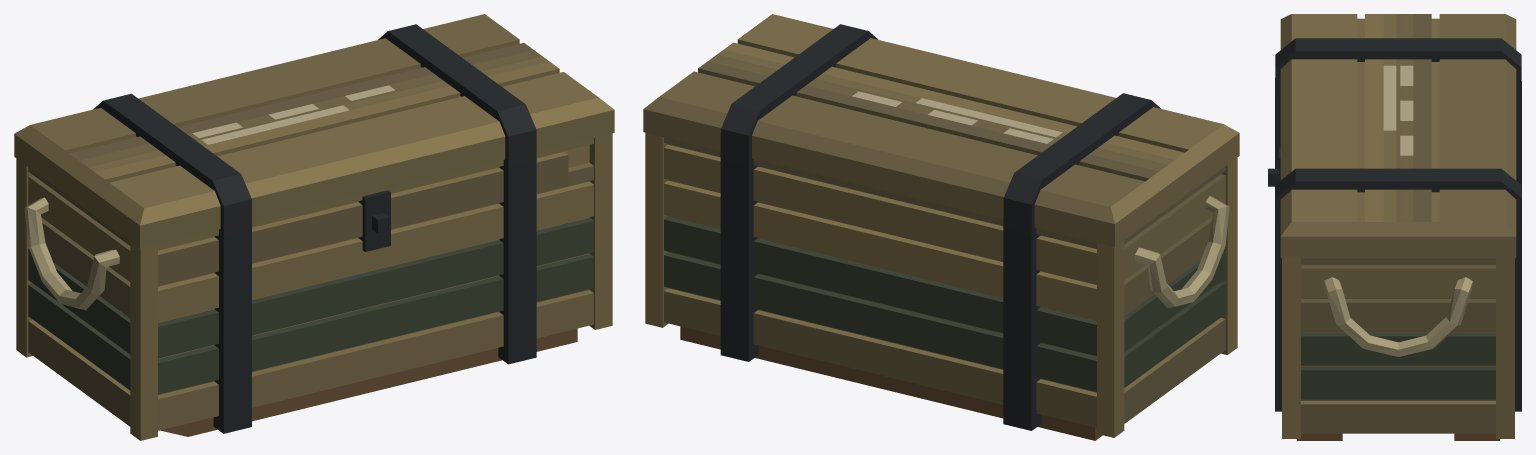
The model's file is ammunition_crate.glb.
The picture shows the model from 3 angles, left to right: view 1: azimuth 30°, elevation 25°; view 2: azimuth 150°, elevation 25°; view 3: azimuth 270°, elevation 25°; orthographic projection. The views are drawn at different scales.
Visible parts, largest first — view 1: crate-body, lid-mesh; view 2: crate-body, lid-mesh; view 3: lid-mesh, crate-body.
Boxes of the visible parts, x1,y1,x2,y2 form: crate-body: (16, 133, 612, 440); lid-mesh: (14, 14, 614, 248); crate-body: (645, 132, 1237, 440); lid-mesh: (643, 14, 1239, 246); lid-mesh: (1275, 14, 1521, 258); crate-body: (1268, 95, 1521, 440).
Size of the model in its own units: 1.11 by 0.522 by 0.51.
